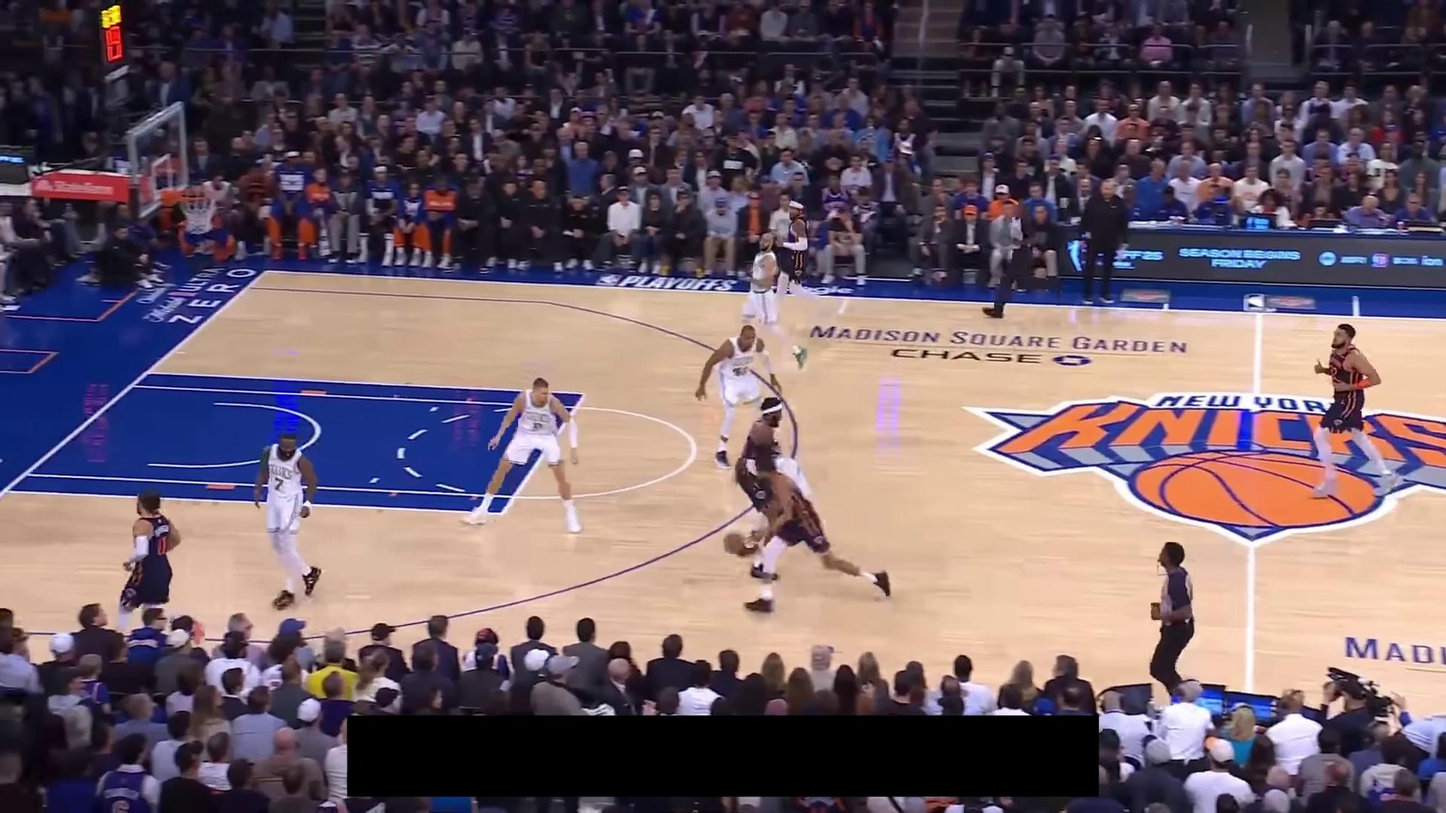ball: (723, 531, 747, 556)
number: (157, 534, 169, 556), (733, 364, 749, 377), (273, 475, 285, 492)
player: (459, 376, 585, 535), (1308, 321, 1404, 499), (113, 489, 205, 645), (694, 323, 784, 471), (253, 431, 324, 610), (737, 229, 810, 372), (734, 395, 785, 583), (773, 195, 826, 312)
player-in-possession: (743, 456, 893, 612)
referee: (981, 200, 1067, 320), (1148, 541, 1197, 706)
rim: (176, 186, 216, 202)
